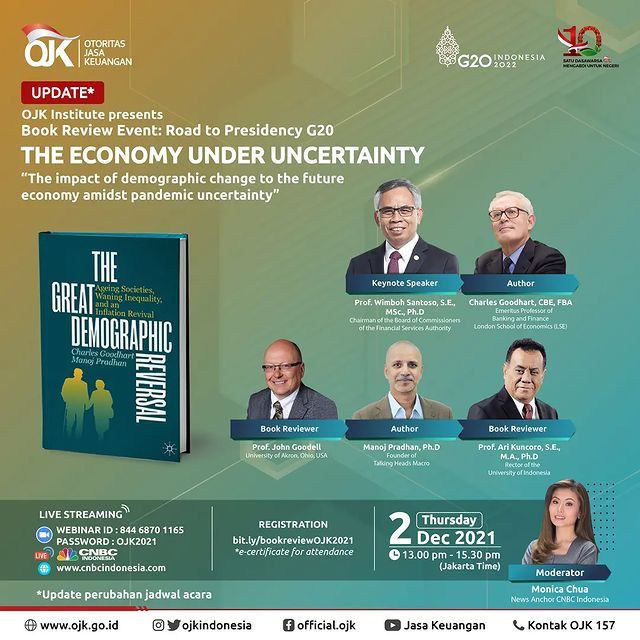ojk: (17, 19, 137, 71)
